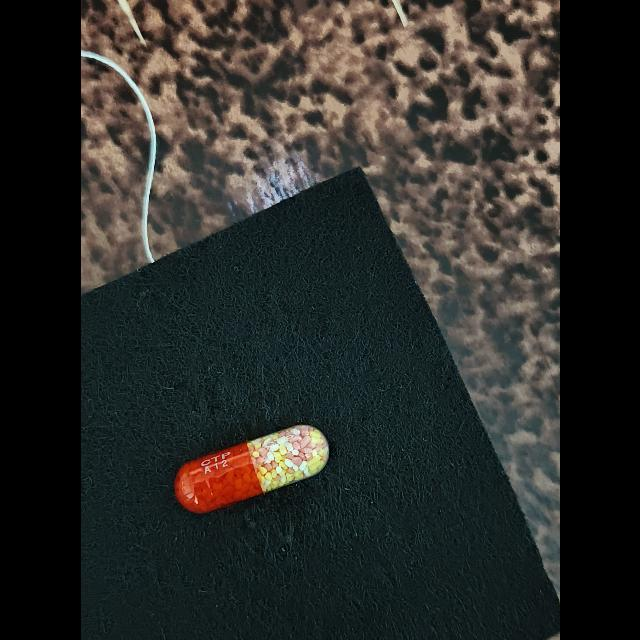Intact Capsule: (173, 425, 329, 513)
